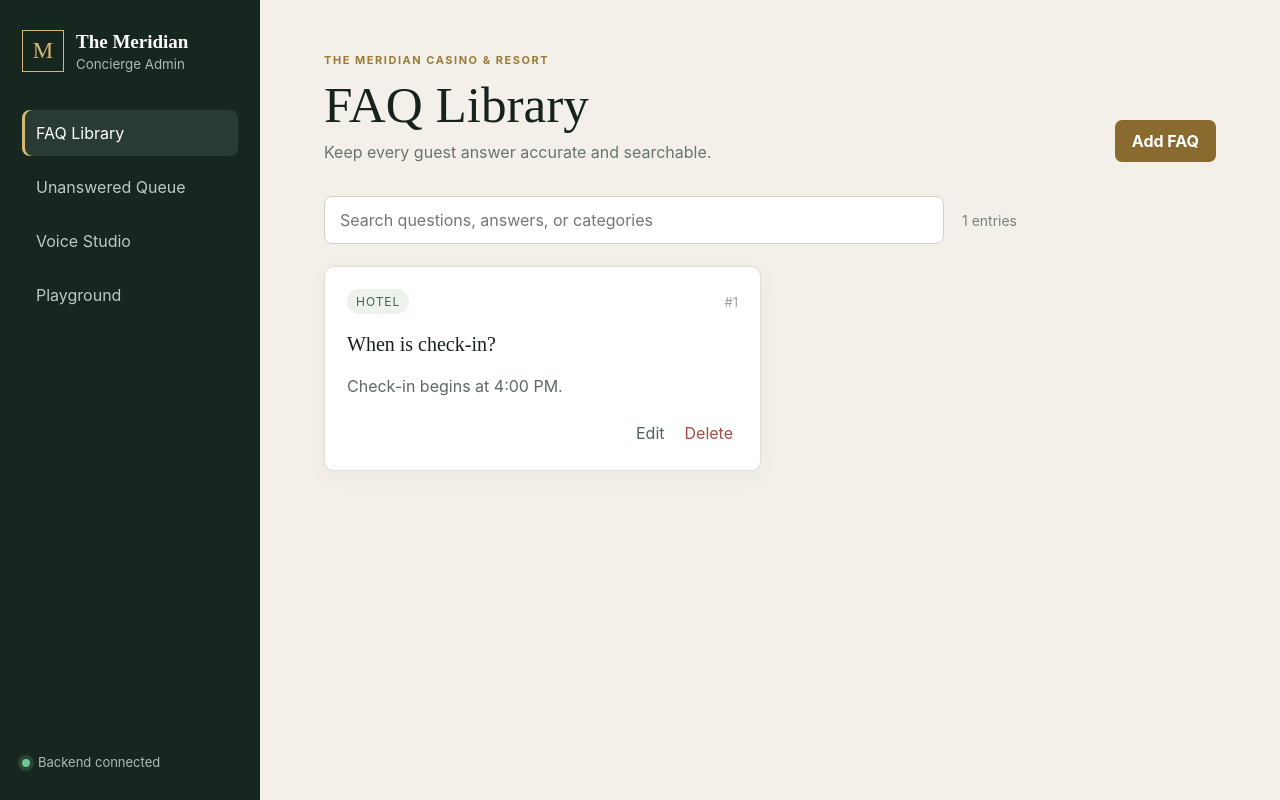
Meridian admin › shows the four-voice Voice Studio with one active voice
The width and height of the screenshot is (1280, 800).
Expected: the heading "When is check-in?" is shown, [347,333,496,355]
Step 1. Click the button "Voice Studio" → click(130, 241), box [22,218,238,264]
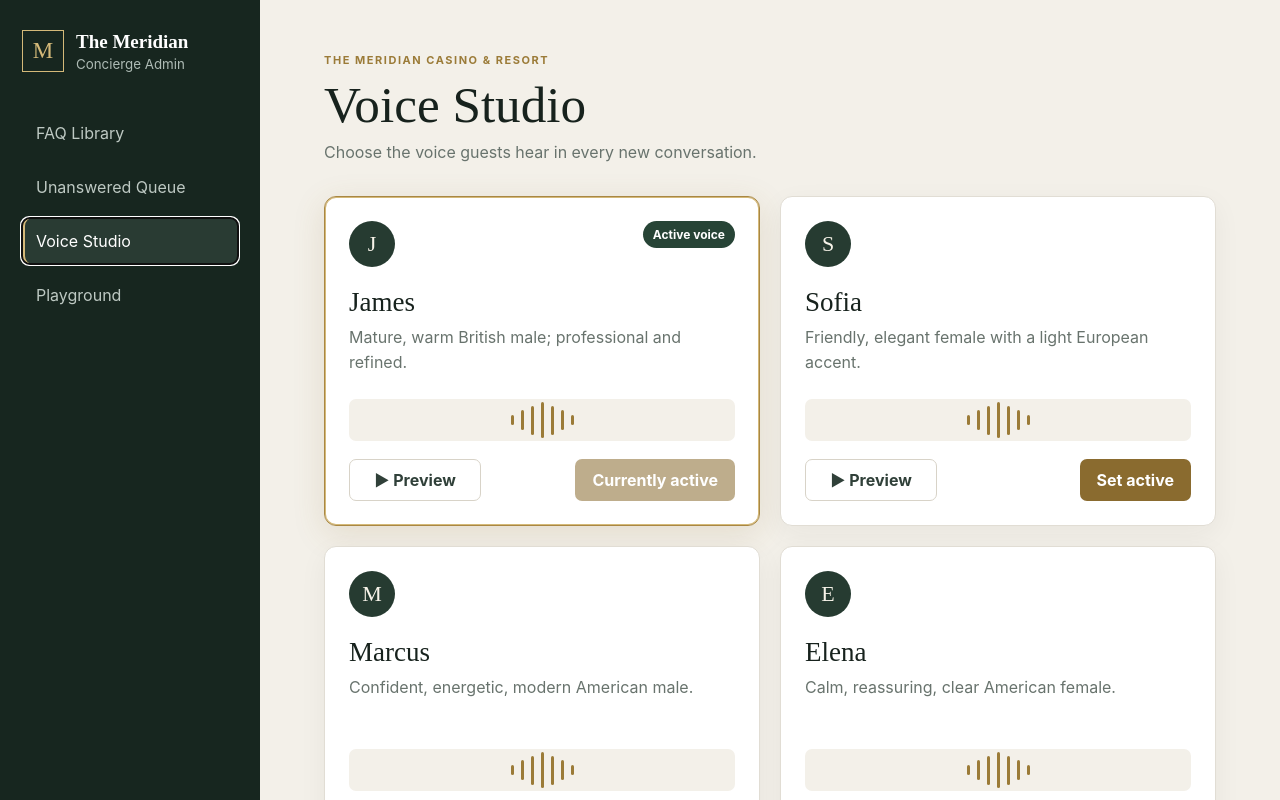
Expected: the heading "Voice Studio" is shown, [324,76,586,133]
Expected: the text "Active voice" is shown once, [643,221,735,248]
Expected: the heading "James" is shown, [349,287,415,317]
